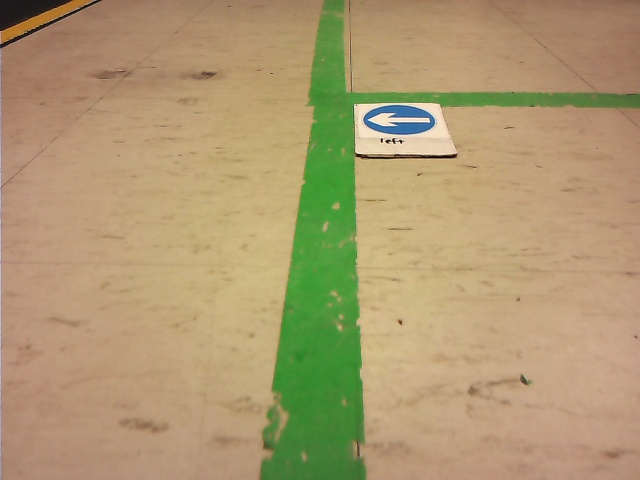TURN LEFT: (364, 105, 435, 134)
